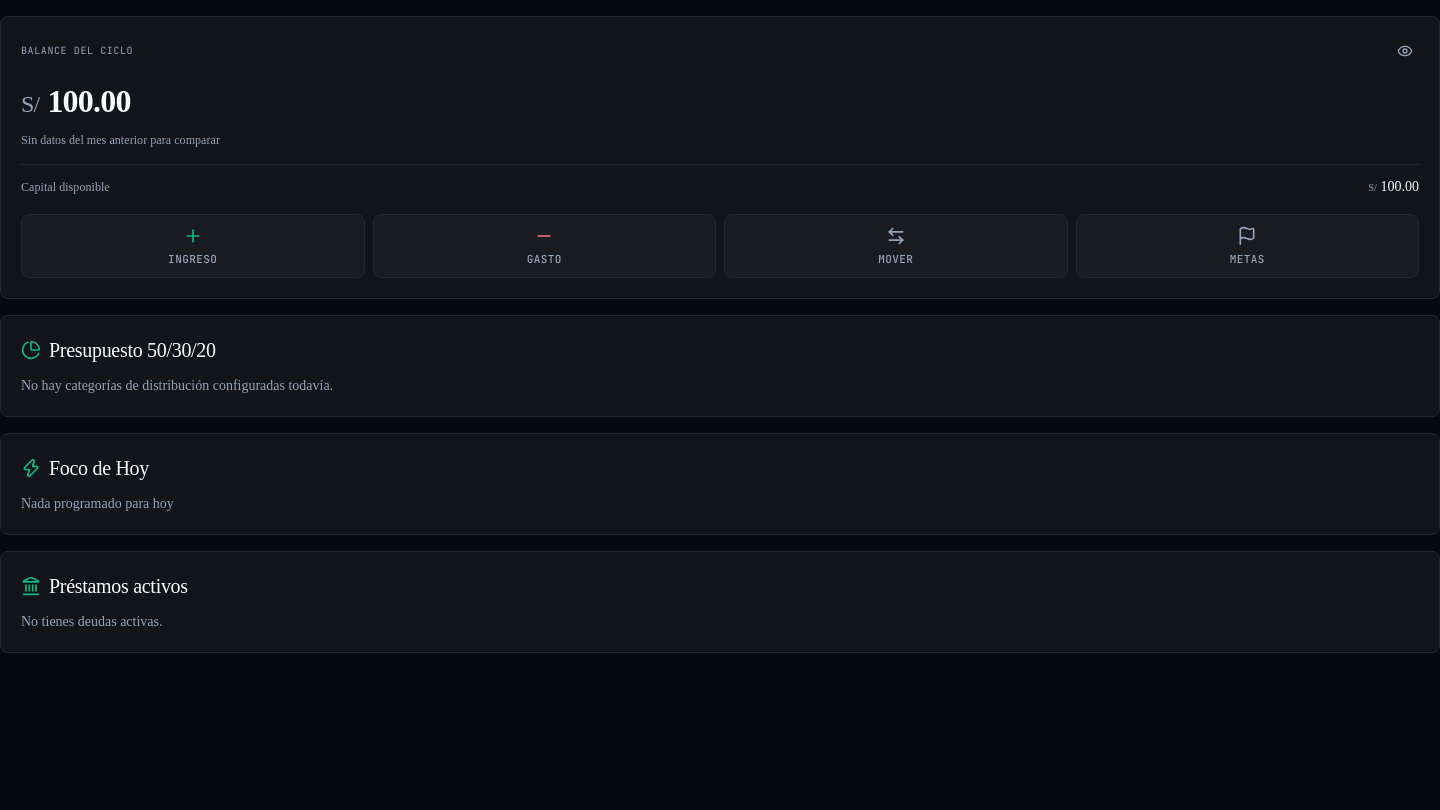
Test: Dashboard — hero (mobile) › keeps working when localStorage is unavailable
Step 1. Click the button named "Ocultar montos" → (1405, 51), box x1=1383 y1=29 x2=1427 y2=73
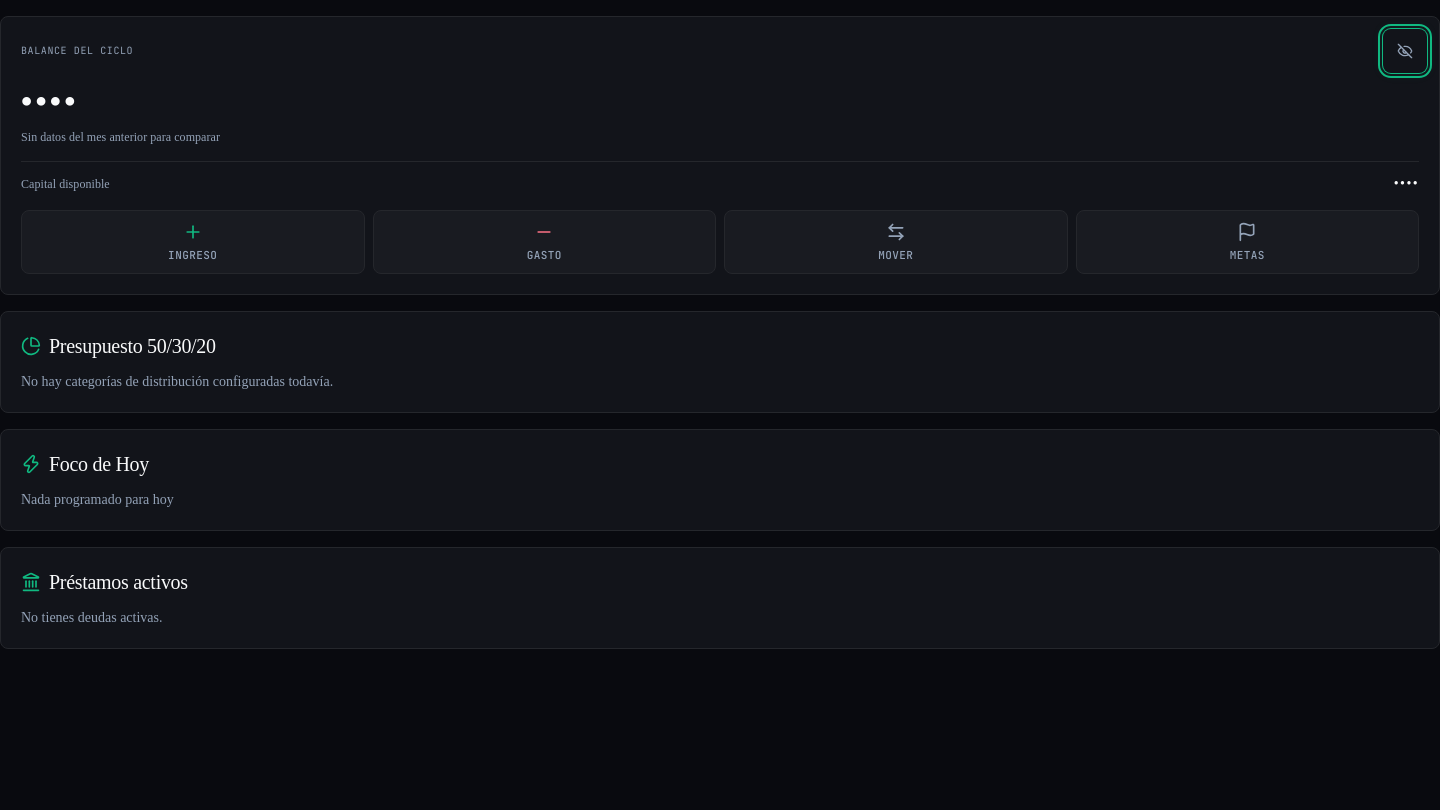
Expected: the element with test id "hero-amount" reads "••••", x1=21 y1=83 x2=79 y2=119
